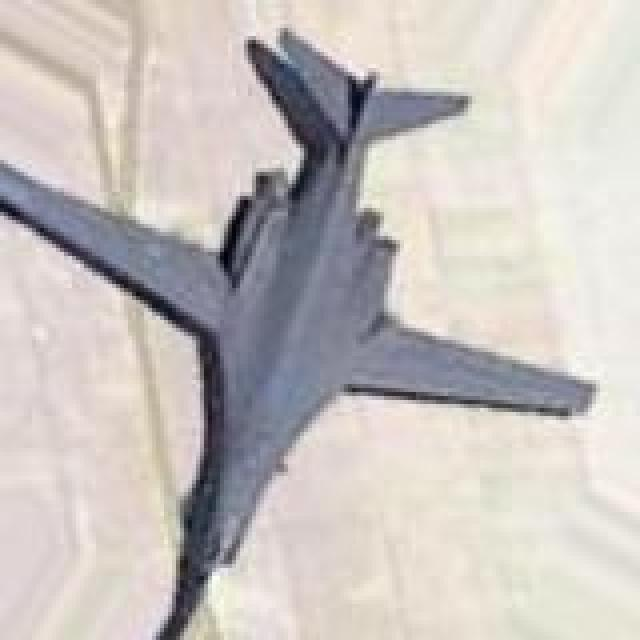B-1_TopDown: (0, 20, 596, 636)
